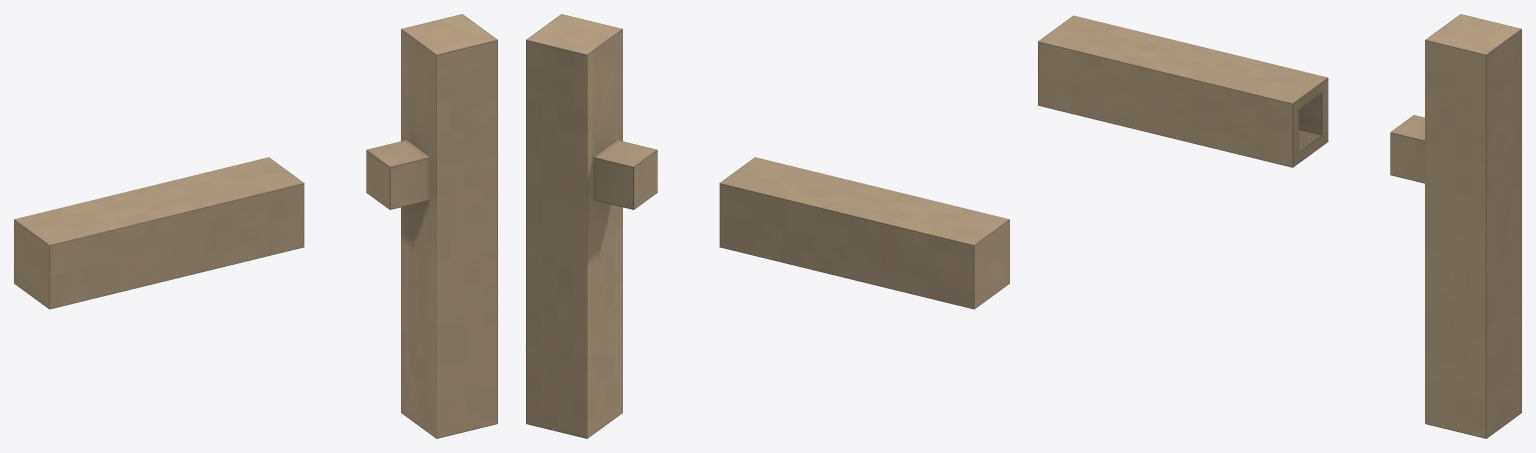
Rendered from yatoi-hozo-shikuchi.glb.
The picture shows the model from 3 angles, left to right: view 1: azimuth 30°, elevation 25°; view 2: azimuth 150°, elevation 25°; view 3: azimuth 330°, elevation 25°; orthographic projection.
Visible parts, largest first — view 1: part-a, part-b, key; view 2: part-a, part-b, key; view 3: part-a, part-b, key.
Boxes of the visible parts, box(x1,y1,x2,y2) form: part-a: box(401, 14, 497, 438); part-b: box(14, 157, 304, 309); key: box(366, 140, 430, 209); part-a: box(526, 14, 622, 438); part-b: box(719, 157, 1009, 309); key: box(593, 140, 657, 209); part-a: box(1425, 14, 1521, 438); part-b: box(1038, 15, 1328, 167); key: box(1390, 115, 1424, 183).
Bounding box in the file's own units: 0.8808 × 0.7208 × 0.1208.
